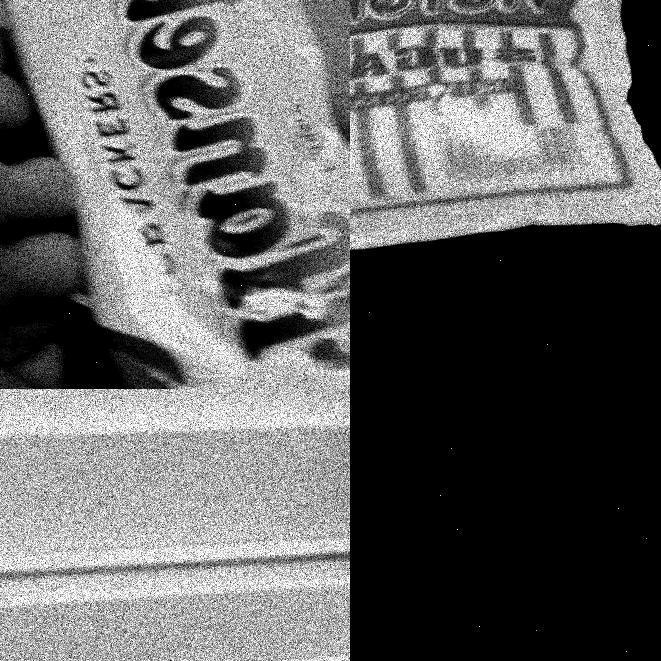Sugar: (350, 0, 661, 250)
hansel: (0, 0, 350, 389)
